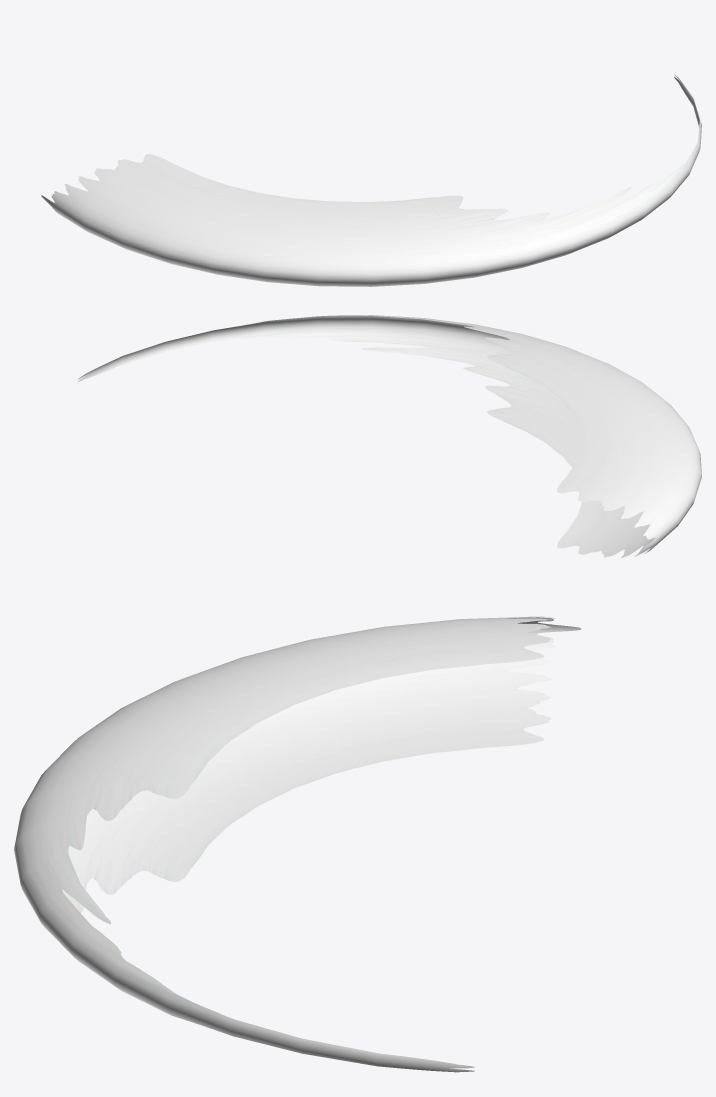
File: SlashMesh.fbx
3 renders of one model, top to bottom at view 1: azimuth 30°, elevation 25°; view 2: azimuth 150°, elevation 25°; view 3: azimuth 270°, elevation 25°, orthographic. The views are drawn at different scales.
Visible parts, largest first — view 1: SlashMesh; view 2: SlashMesh; view 3: SlashMesh.
Boxes of the visible parts, x1,y1,x2,y2 form: SlashMesh: (41,74,701,286); SlashMesh: (78,315,701,557); SlashMesh: (14,616,581,1072).
Size of the model in its own units: 3 by 0.2633 by 1.96.
1 material, 1 textured.
